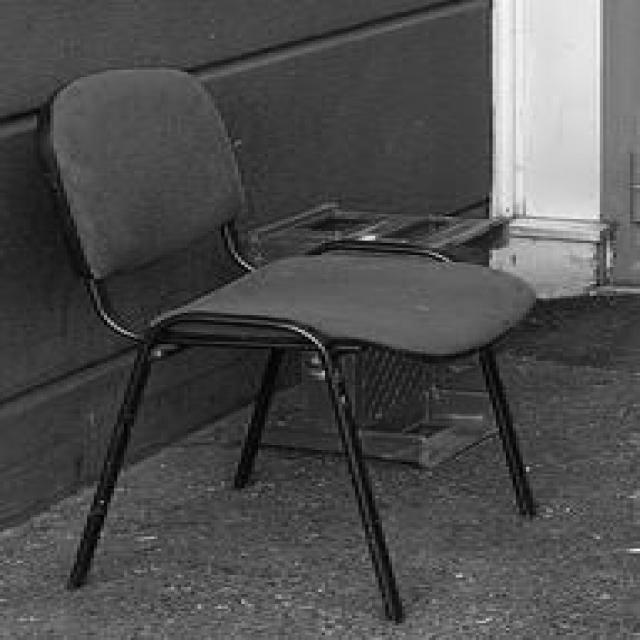chair: (22, 64, 541, 617)
